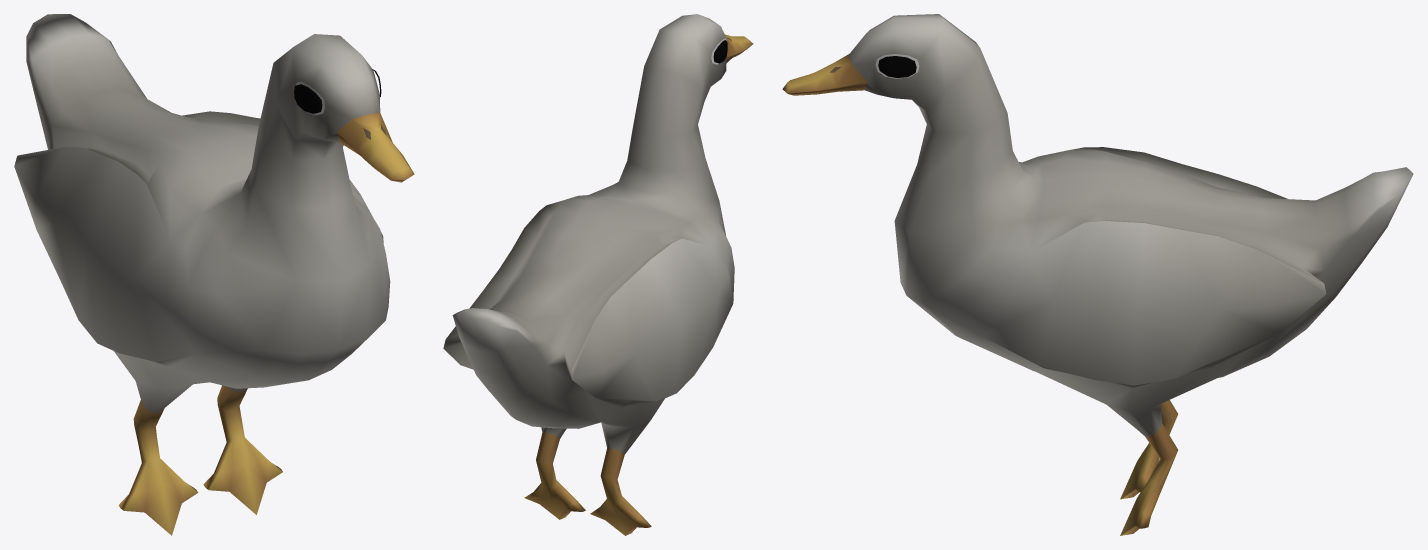
The model's file is duck.glb.
3 renders of one model, left to right at view 1: azimuth 30°, elevation 25°; view 2: azimuth 150°, elevation 25°; view 3: azimuth 270°, elevation 25°, orthographic. The views are drawn at different scales.
Parts seen in each view (by area): view 1: base; view 2: base; view 3: base.
Boxes of the visible parts, left/top/right/bottom form: base: left=14, top=14, right=414, bottom=535; base: left=443, top=14, right=753, bottom=535; base: left=782, top=14, right=1413, bottom=535.
Size of the model in its own units: 28.21 by 63.75 by 72.98.
